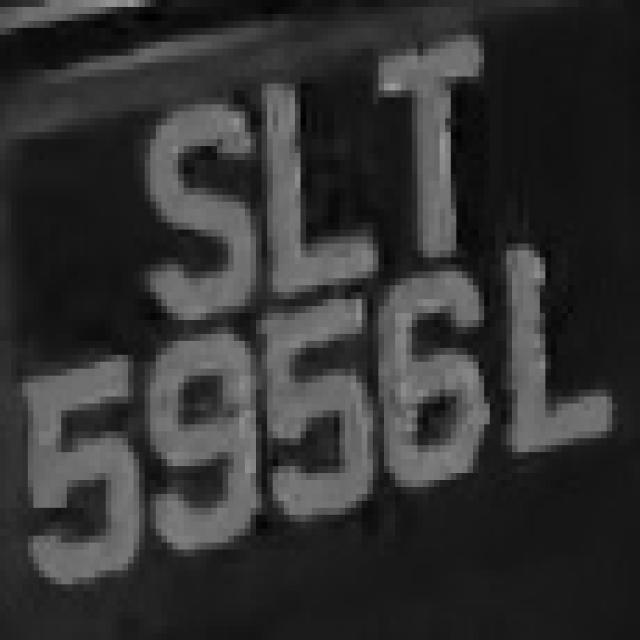5: (6, 327, 150, 591), (245, 285, 373, 529)
6: (367, 264, 484, 556)
9: (117, 306, 261, 564)
L: (484, 216, 635, 480), (234, 63, 378, 299)
S: (122, 63, 278, 327)
T: (362, 35, 512, 257)
